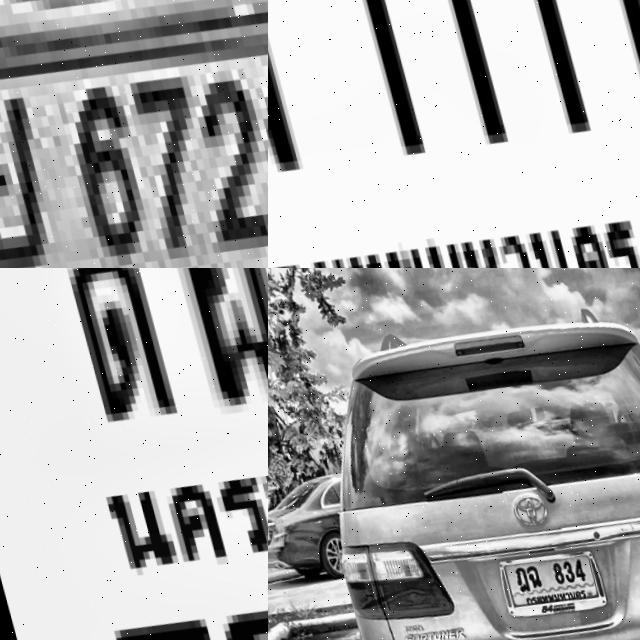license-plate: (268, 0, 640, 268), (0, 268, 268, 640), (0, 0, 268, 268), (484, 525, 608, 625)
